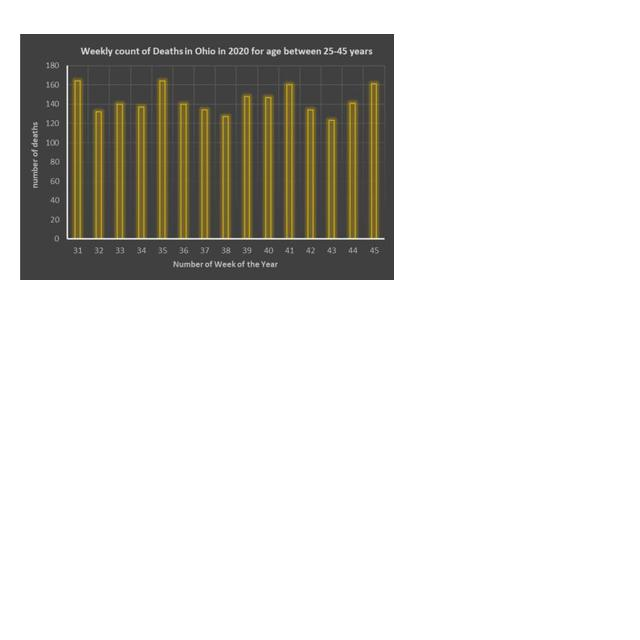Graph: (20, 34, 394, 280)
